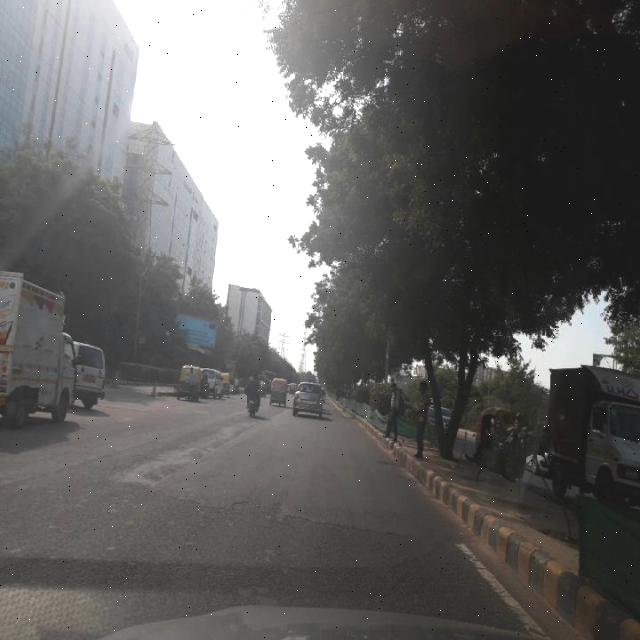D11: (140, 476, 412, 538)
D44: (452, 535, 560, 638)
